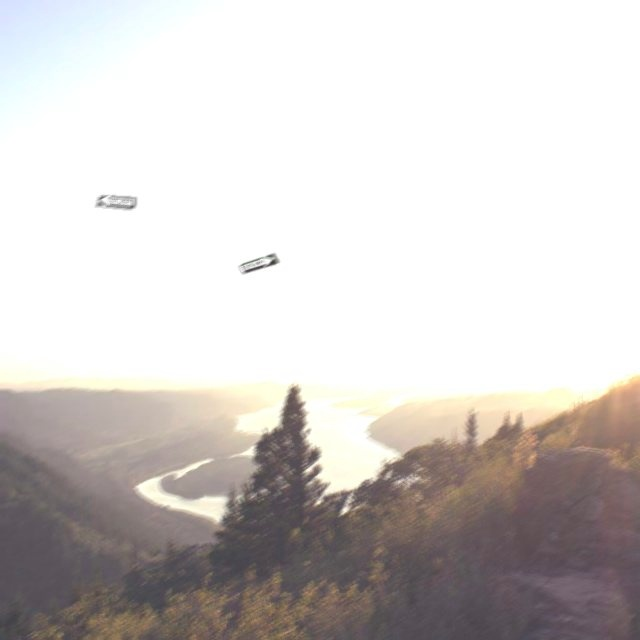ONE_WAY_ left: (94, 195, 134, 210)
ONE_WAY_ right: (237, 253, 277, 274)
